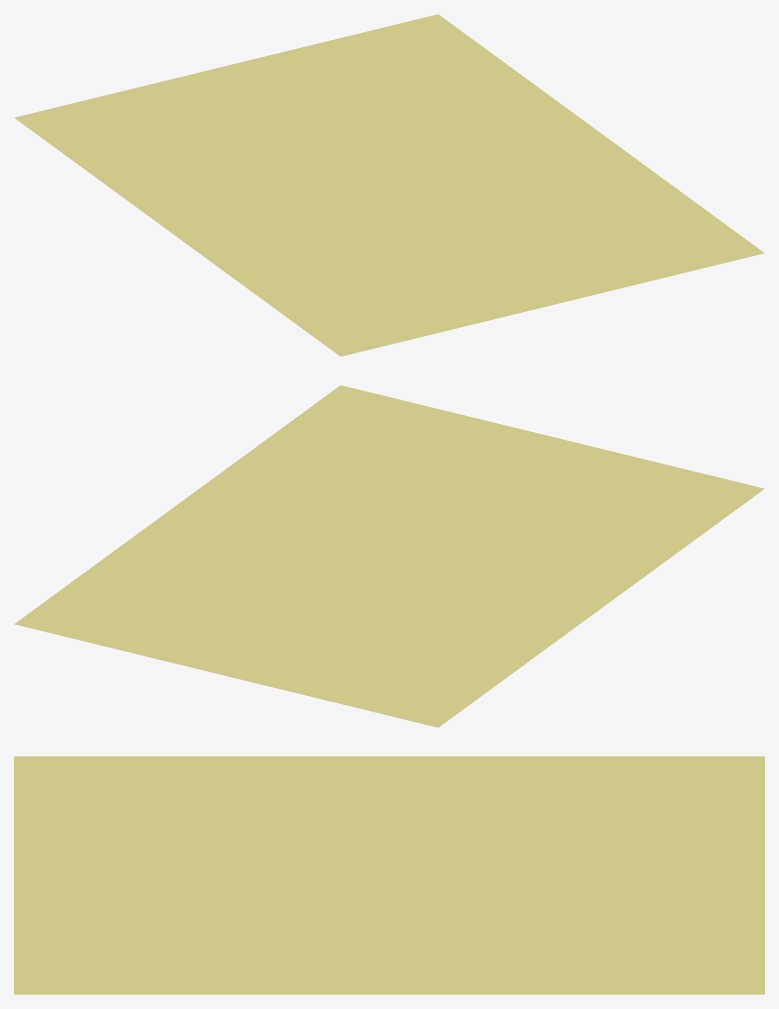
The model's file is Ceiling_3x_4x.FBX.
3 views of the same model, one above another, from view 1: azimuth 30°, elevation 25°; view 2: azimuth 150°, elevation 25°; view 3: azimuth 270°, elevation 25° (orthographic). The views are drawn at different scales.
Parts seen in each view (by area): view 1: Ceiling_3x_4x; view 2: Ceiling_3x_4x; view 3: Ceiling_3x_4x.
Boxes of the visible parts, x1,y1,x2,y2 form: Ceiling_3x_4x: (14,14,764,356); Ceiling_3x_4x: (14,385,764,727); Ceiling_3x_4x: (14,756,764,994).
Size of the model in its own units: 300 by 400 by 1.3e-05.
